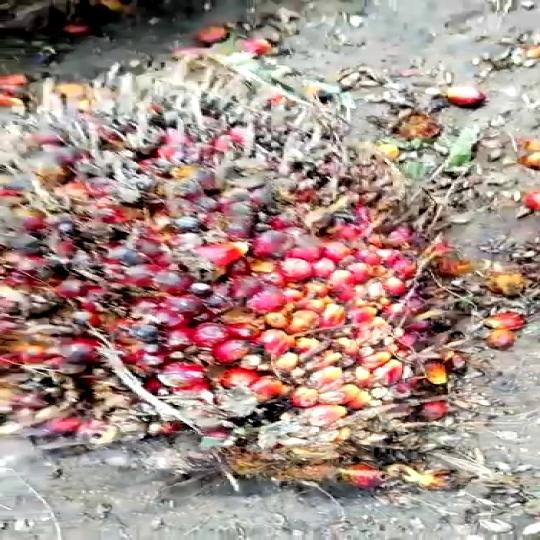masak: (0, 70, 473, 501)
